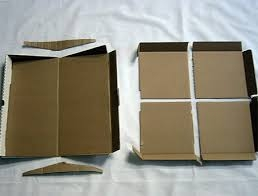paper: (132, 34, 258, 170), (1, 44, 126, 160)
